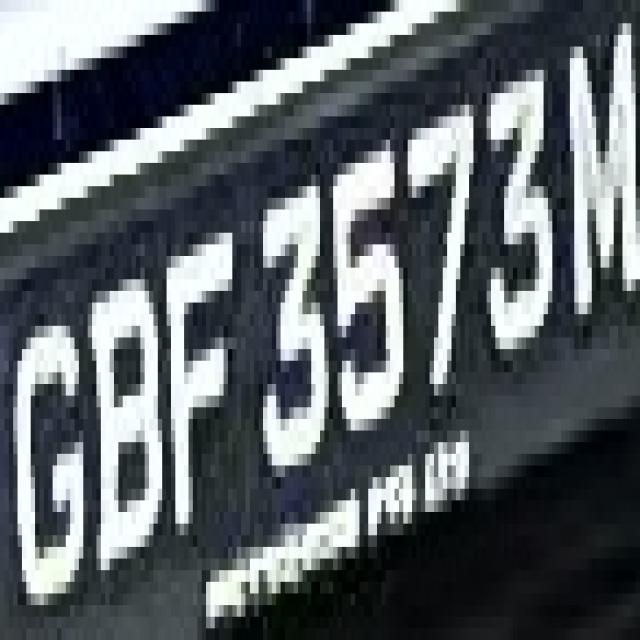3: (478, 58, 561, 349), (254, 151, 324, 489)
5: (324, 140, 408, 442)
7: (395, 93, 482, 419)
B: (88, 256, 166, 593)
F: (167, 210, 241, 536)
G: (9, 268, 92, 605)
M: (566, 12, 636, 360)
